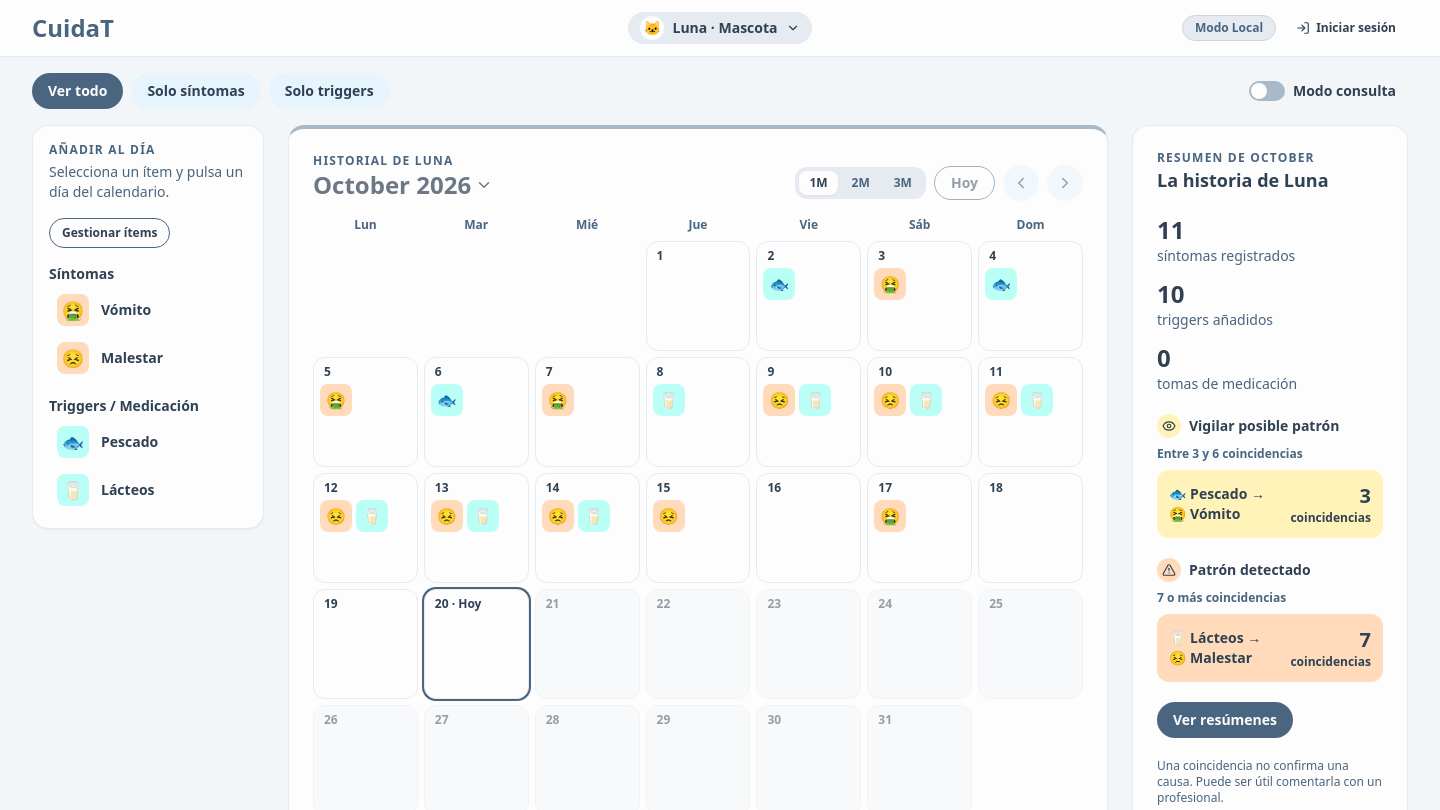
App (Phase 4.5: consultation mode) › brings everything back when it is turned off
Click the switch labelled "Modo consulta" at (1322, 91), box [1237, 73, 1408, 109]
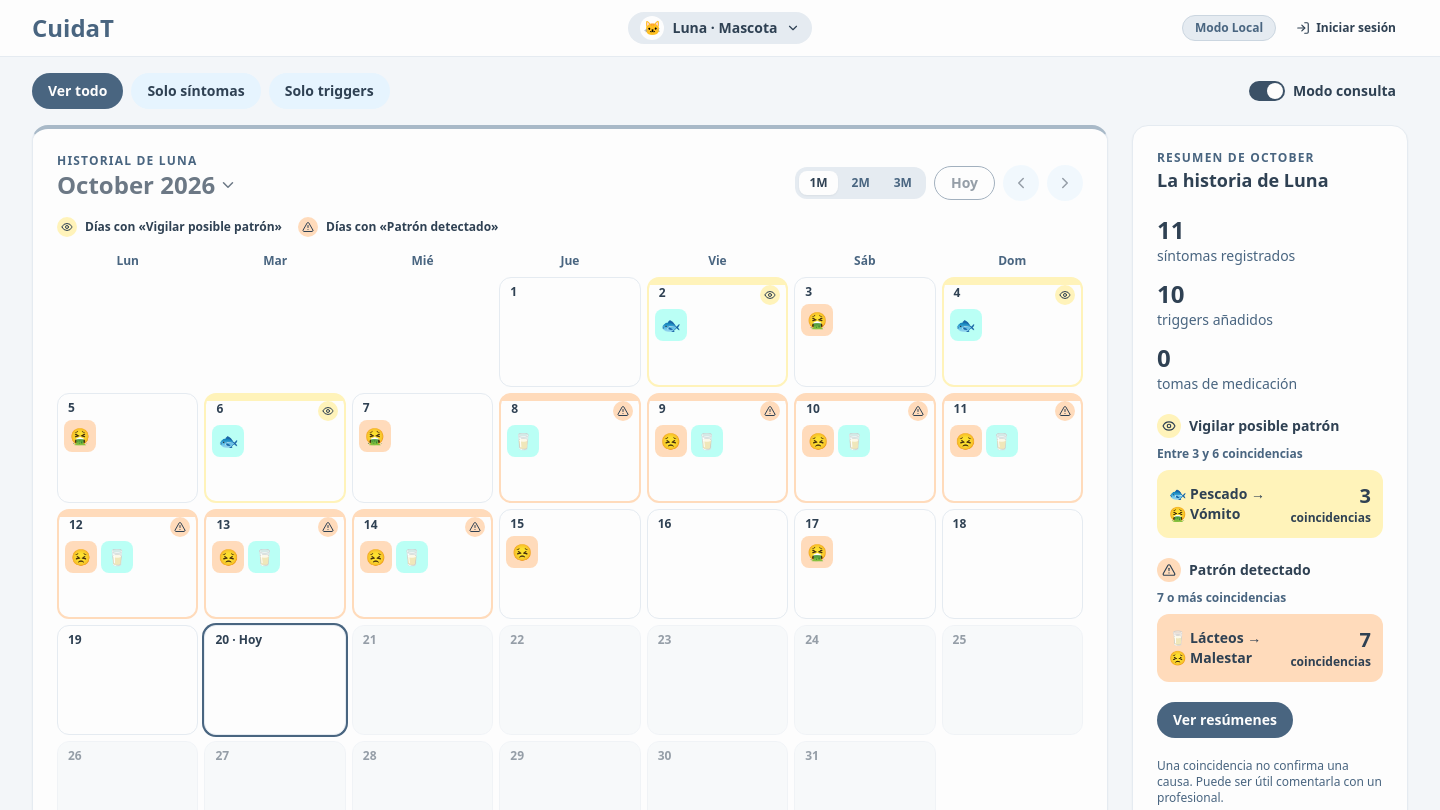
Click the switch labelled "Modo consulta" at (1322, 91), box [1237, 73, 1408, 109]
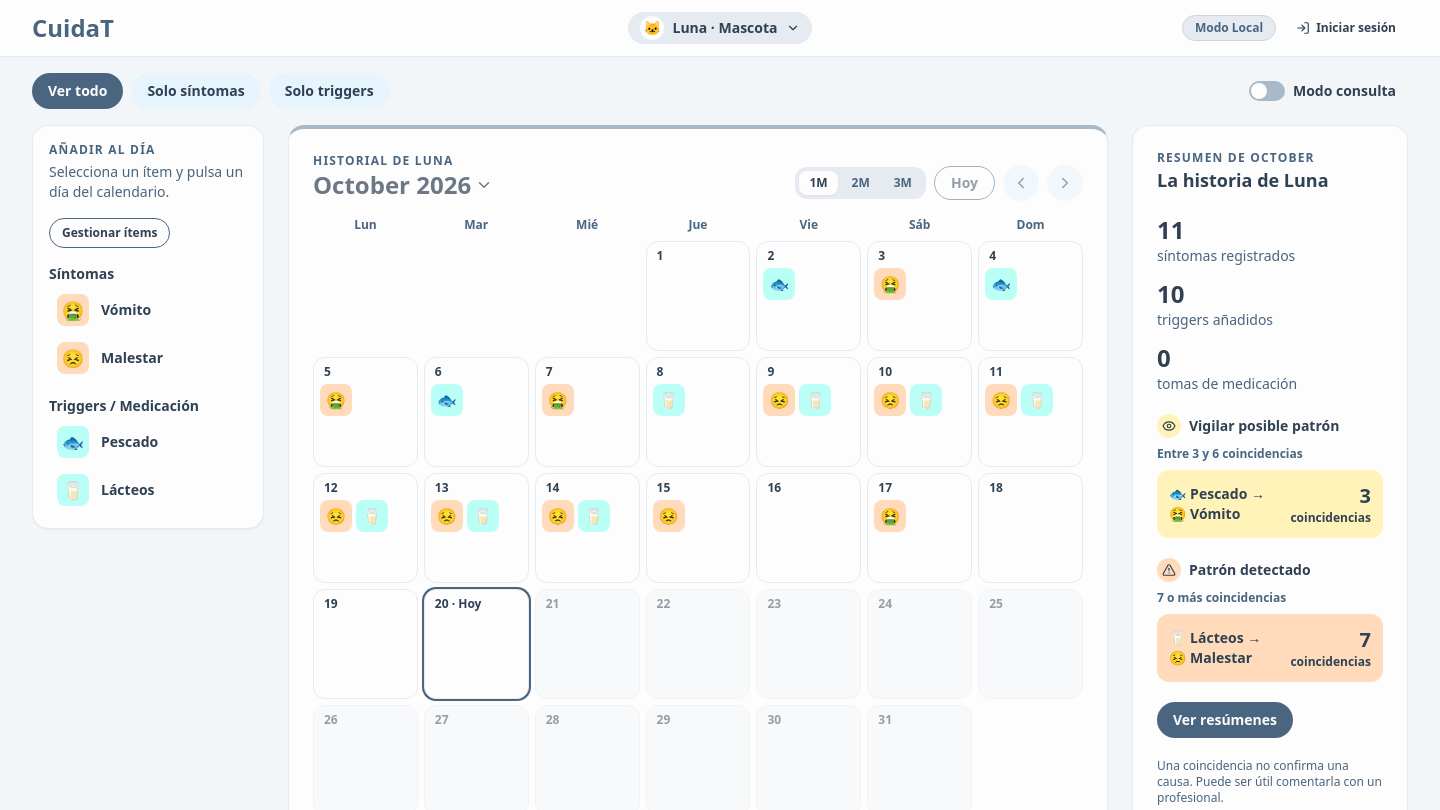
Result: the heading "Añadir al día" is shown at [49, 141, 156, 158]
Click the 1st button "🤮" at (890, 284), box [874, 268, 906, 300]
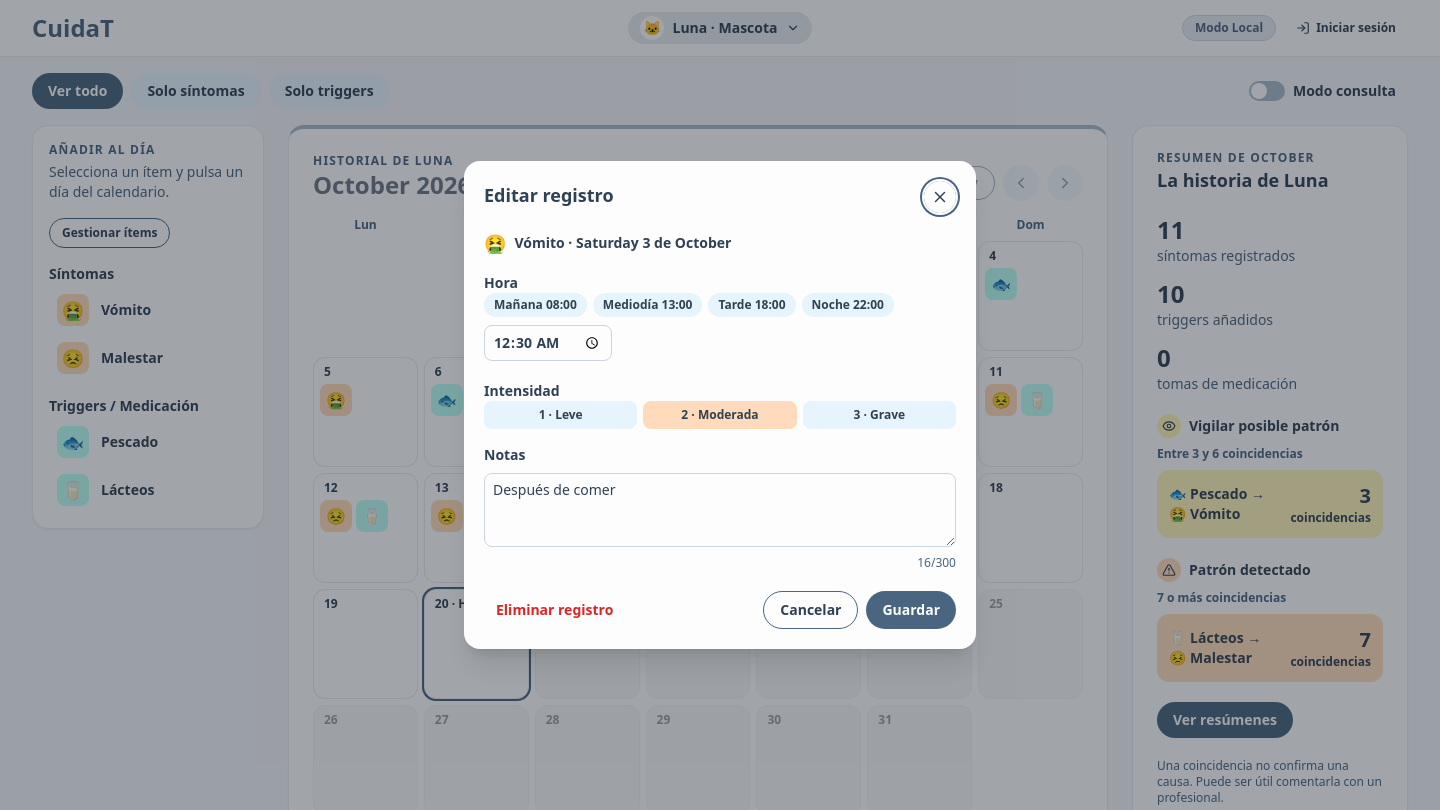
Result: the dialog shows "Editar registro" at [484, 183, 614, 207]
